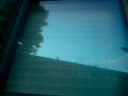window: (0, 5, 27, 96), (31, 82, 65, 96), (34, 42, 58, 57), (84, 90, 102, 96), (82, 64, 89, 69)
